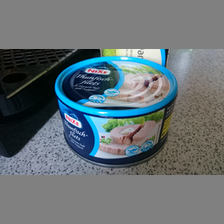fish: (52, 56, 179, 167)
